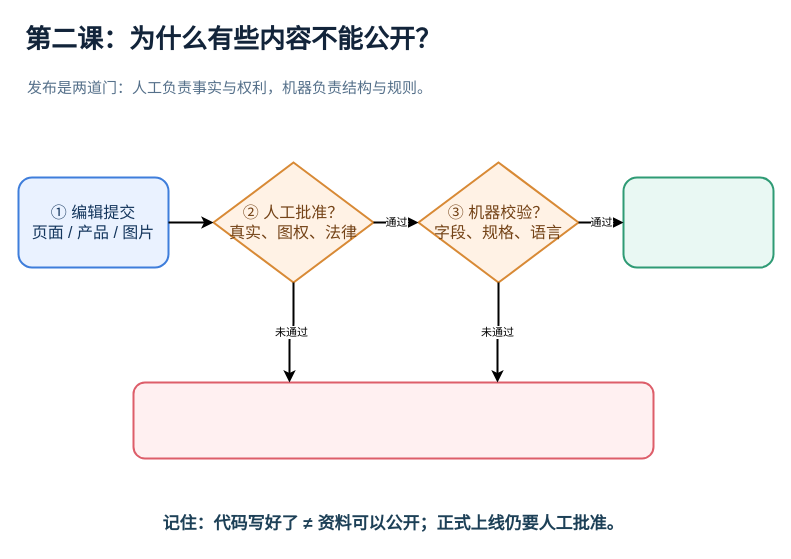
This 791x559 diagram has some shape labels left out. Each missing label, with the centre of its shape:
"④ 进入公开页面 目录与搜索索引" goes at (698,222).
"任一门未通过：保持非公开；不进入目录、筛选或 sitemap。" goes at (393,420).
